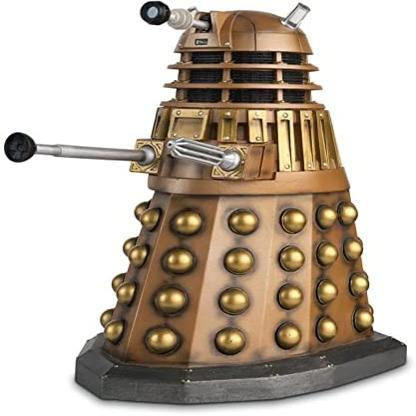dalek: (4, 1, 408, 413)
